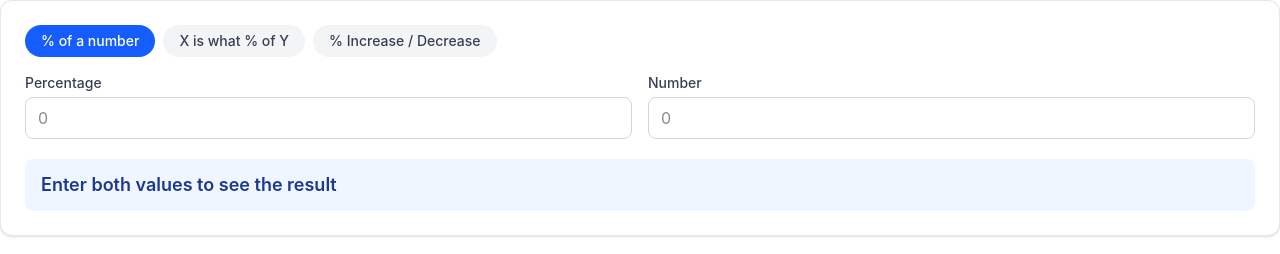
Scenario: PercentageCalculator › calculates 'X is what % of Y' correctly
Click the button "X is what % of Y" at point(234, 41), box 163,25 -> 305,57
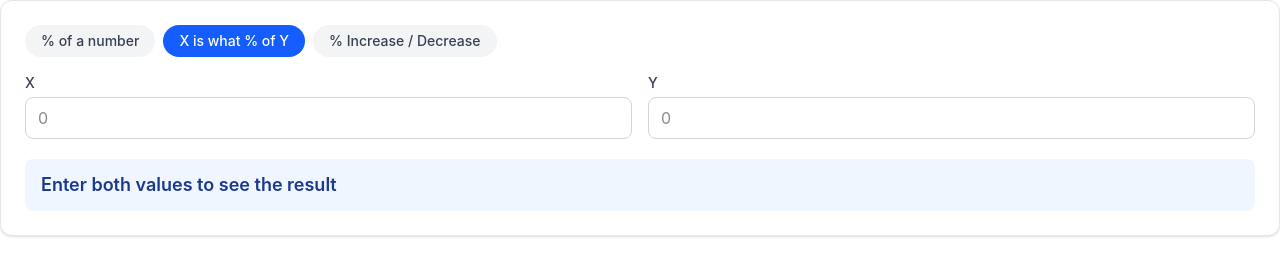
Type "45" into the number field labelled "X" at point(328, 118), box 25,97 -> 632,139
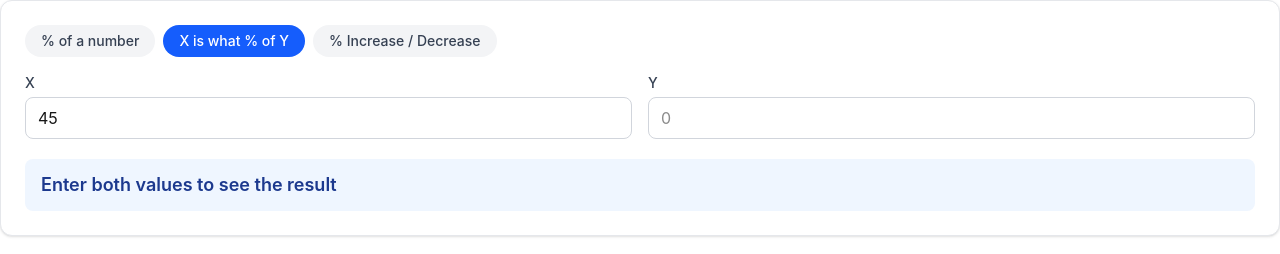
Type "60" into the number field labelled "Y" at point(952, 118), box 648,97 -> 1255,139
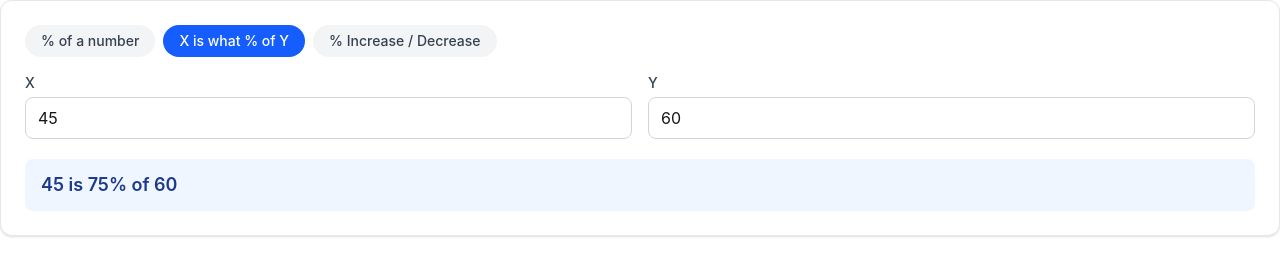
Check: the text "45 is 75% of 60" is shown, box 25,159 -> 1255,211
